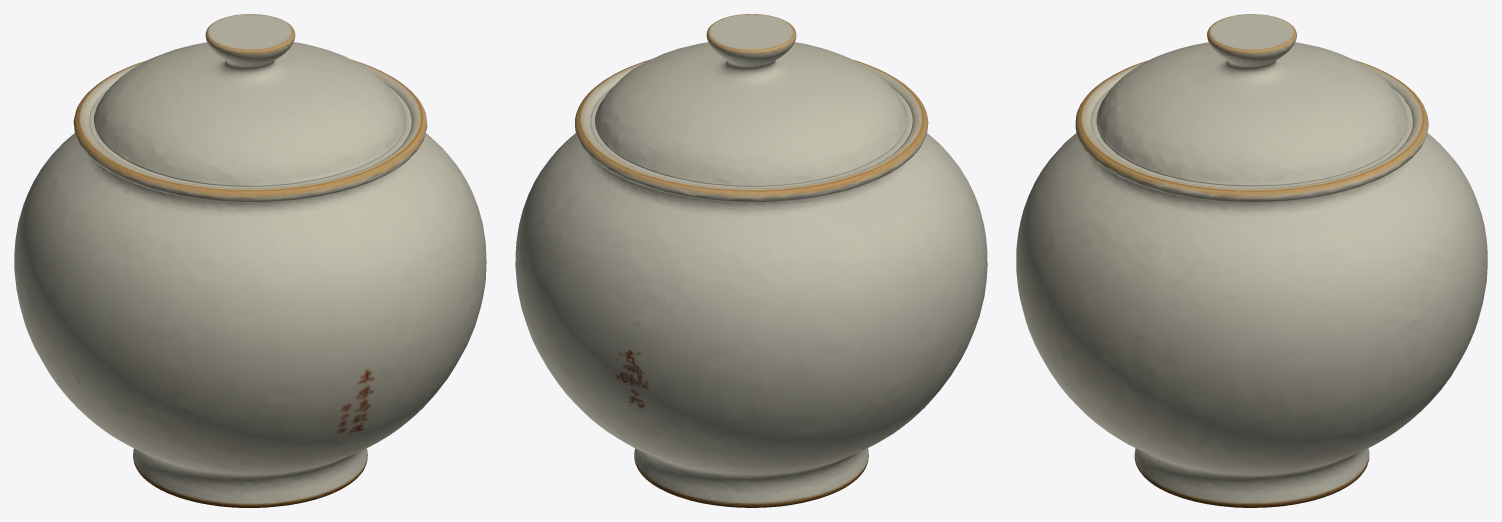
File: moonjar.glb
3 renders of one model, left to right at view 1: azimuth 30°, elevation 25°; view 2: azimuth 150°, elevation 25°; view 3: azimuth 270°, elevation 25°, orthographic.
Size of the model in its own units: 1.9 by 1.9 by 1.9.
1 material, 1 textured.
